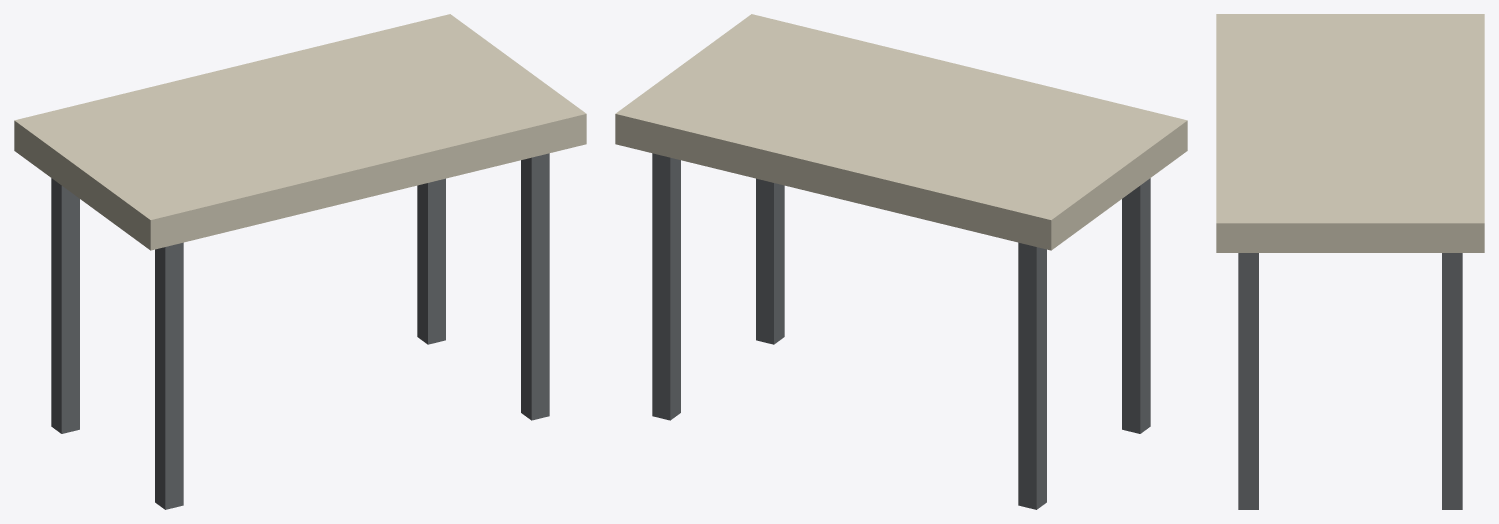
File: table_04.glb
The picture shows the model from 3 angles, left to right: view 1: azimuth 30°, elevation 25°; view 2: azimuth 150°, elevation 25°; view 3: azimuth 270°, elevation 25°; orthographic projection.
Visible parts, largest first — view 1: top, leg-0.5040.24700000000000003, leg0.5040.24700000000000003, leg-0.504-0.24700000000000003, leg0.504-0.24700000000000003; view 2: top, leg-0.504-0.24700000000000003, leg0.504-0.24700000000000003, leg-0.5040.24700000000000003, leg0.5040.24700000000000003; view 3: top, leg0.504-0.24700000000000003, leg0.5040.24700000000000003.
Part boxes in pixels (bbox=[...]): top: bbox=[14, 14, 586, 250]; leg-0.5040.24700000000000003: bbox=[155, 242, 183, 509]; leg0.5040.24700000000000003: bbox=[521, 153, 549, 420]; leg-0.504-0.24700000000000003: bbox=[51, 178, 79, 433]; leg0.504-0.24700000000000003: bbox=[417, 178, 445, 344]; top: bbox=[615, 14, 1187, 250]; leg-0.504-0.24700000000000003: bbox=[1018, 242, 1046, 509]; leg0.504-0.24700000000000003: bbox=[652, 153, 680, 420]; leg-0.5040.24700000000000003: bbox=[1122, 178, 1150, 433]; leg0.5040.24700000000000003: bbox=[756, 178, 784, 344]; top: bbox=[1216, 14, 1484, 252]; leg0.504-0.24700000000000003: bbox=[1442, 253, 1462, 509]; leg0.5040.24700000000000003: bbox=[1238, 253, 1258, 509].
Size of the model in its own units: 1.2 by 0.8 by 0.65.
